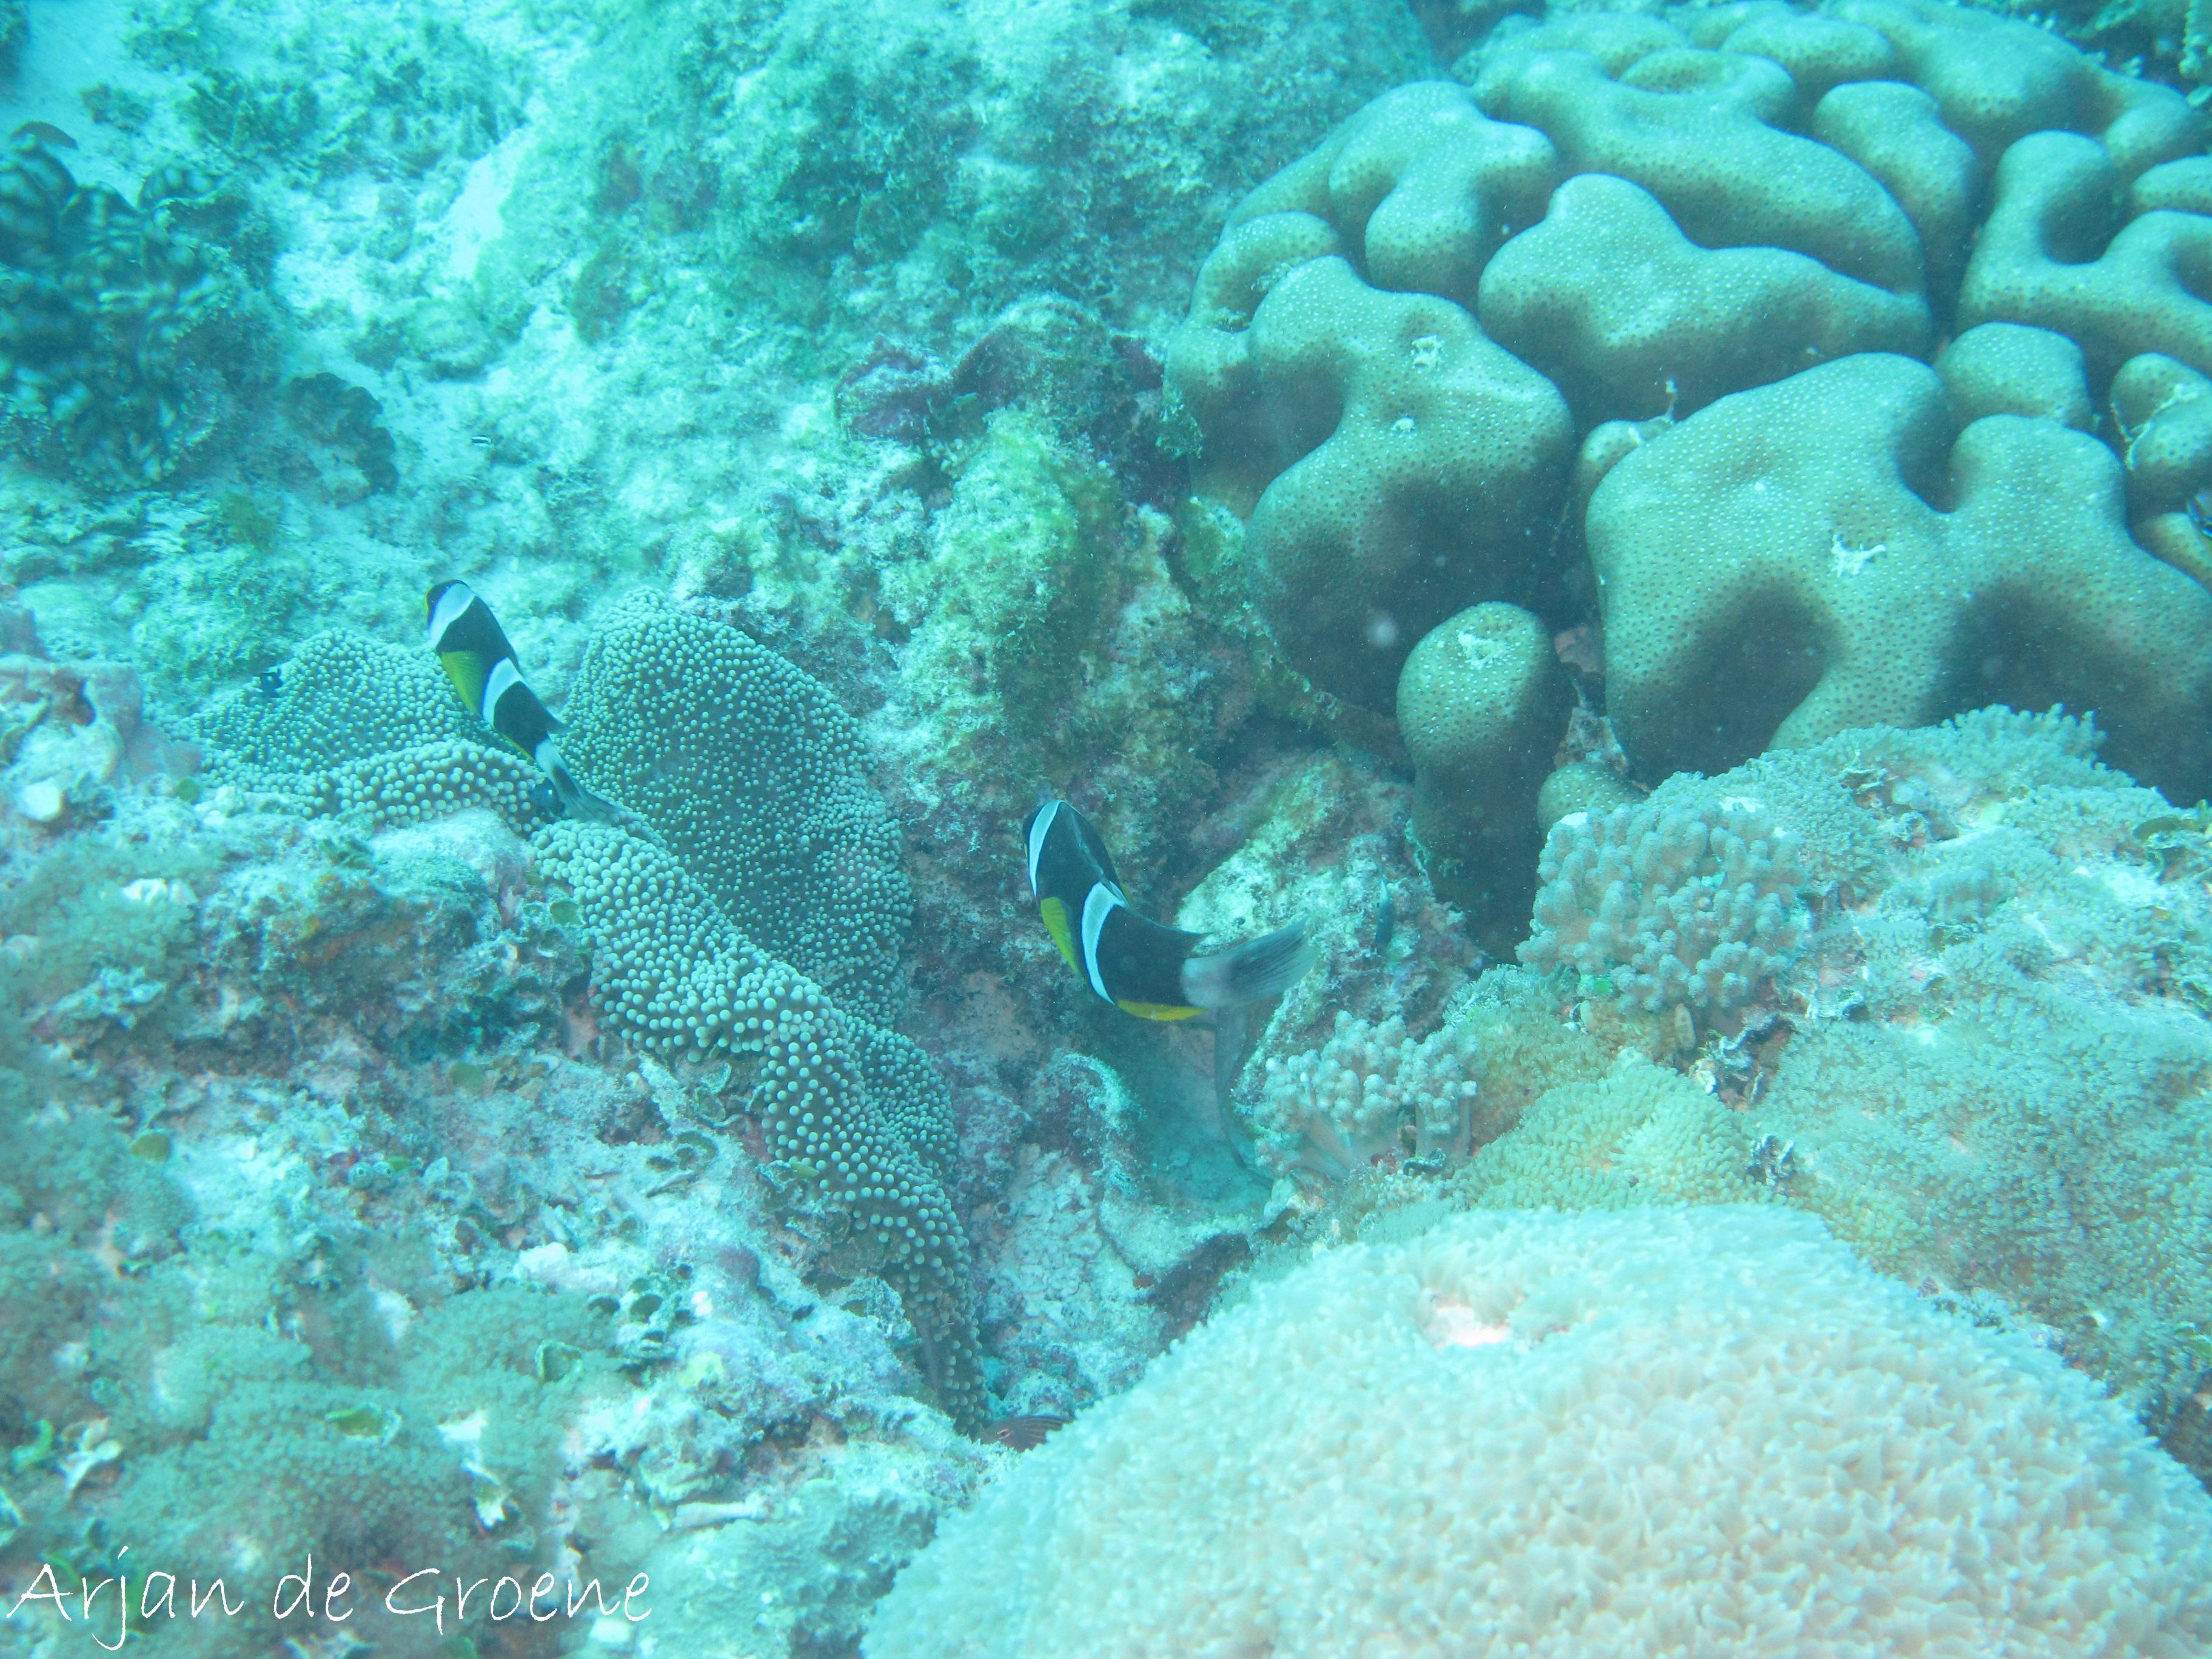Fish: (897, 680, 1383, 1110), (361, 545, 582, 793)
